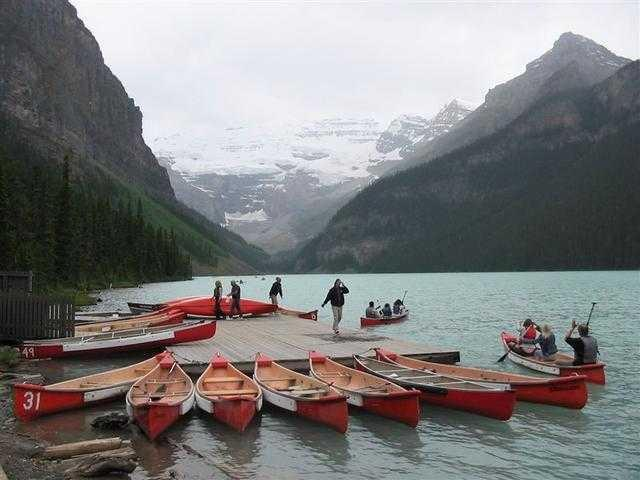kayak: (394, 350, 589, 409), (351, 354, 517, 423), (12, 352, 164, 423), (308, 349, 422, 427), (17, 317, 218, 361), (252, 352, 349, 434), (126, 349, 195, 441), (194, 350, 264, 434), (499, 331, 606, 385), (130, 293, 303, 320), (521, 324, 576, 376), (358, 310, 409, 326)
